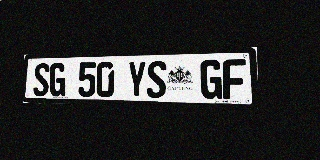0: (96, 62, 114, 97)
5: (78, 62, 96, 97)
F: (223, 59, 246, 100)
G: (200, 59, 222, 99), (49, 63, 66, 97)
S: (147, 61, 166, 98), (33, 63, 50, 96)
Y: (127, 61, 146, 98)
